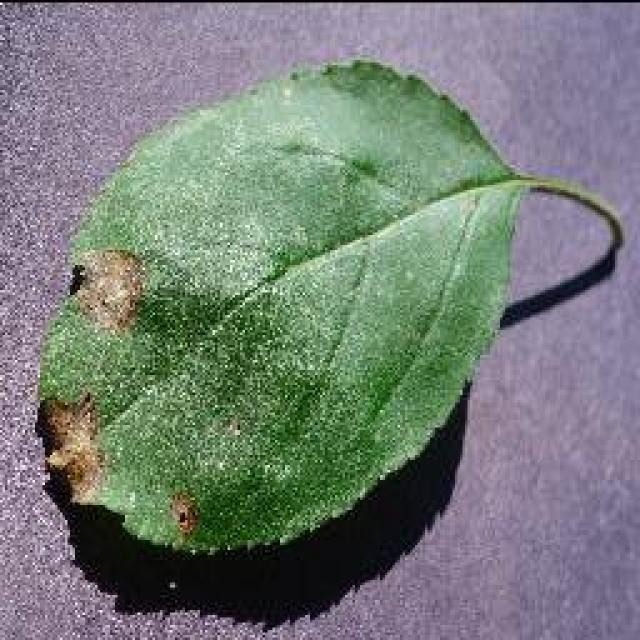Black_rot: (32, 55, 622, 557)
